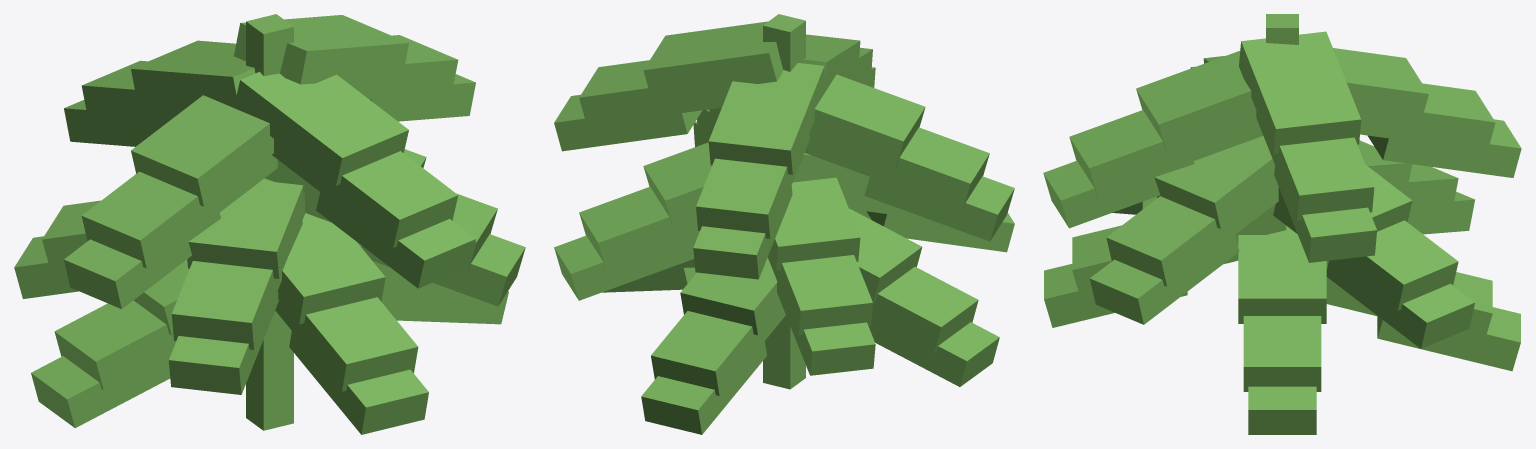
Rendered from SM_Plant_01_C.fbx.
3 renders of one model, left to right at view 1: azimuth 30°, elevation 25°; view 2: azimuth 150°, elevation 25°; view 3: azimuth 270°, elevation 25°, orthographic. The views are drawn at different scales.
Visible parts, largest first — view 1: pCube411; view 2: pCube411; view 3: pCube411.
Boxes of the visible parts, box(x1,y1,x2,y2) form: pCube411: box(14, 14, 525, 434); pCube411: box(554, 14, 1014, 434); pCube411: box(1043, 14, 1521, 434).
Bounding box in the file's own units: 53.36 × 45.64 × 53.36.
